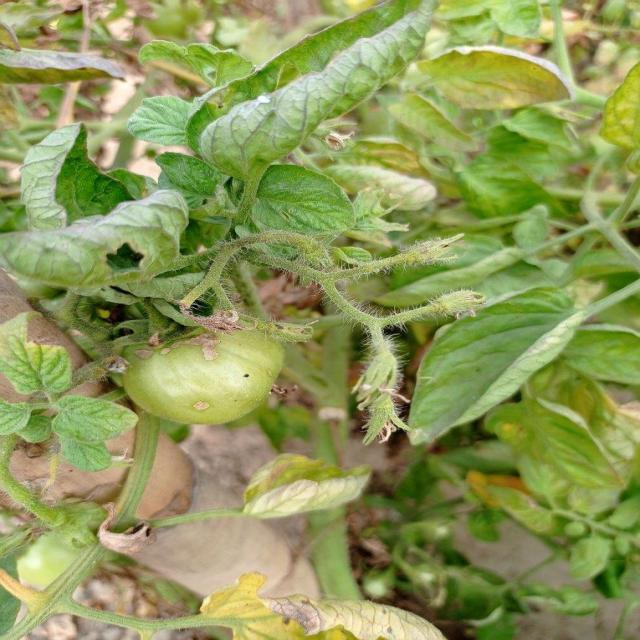Unripe: (118, 310, 284, 428)
